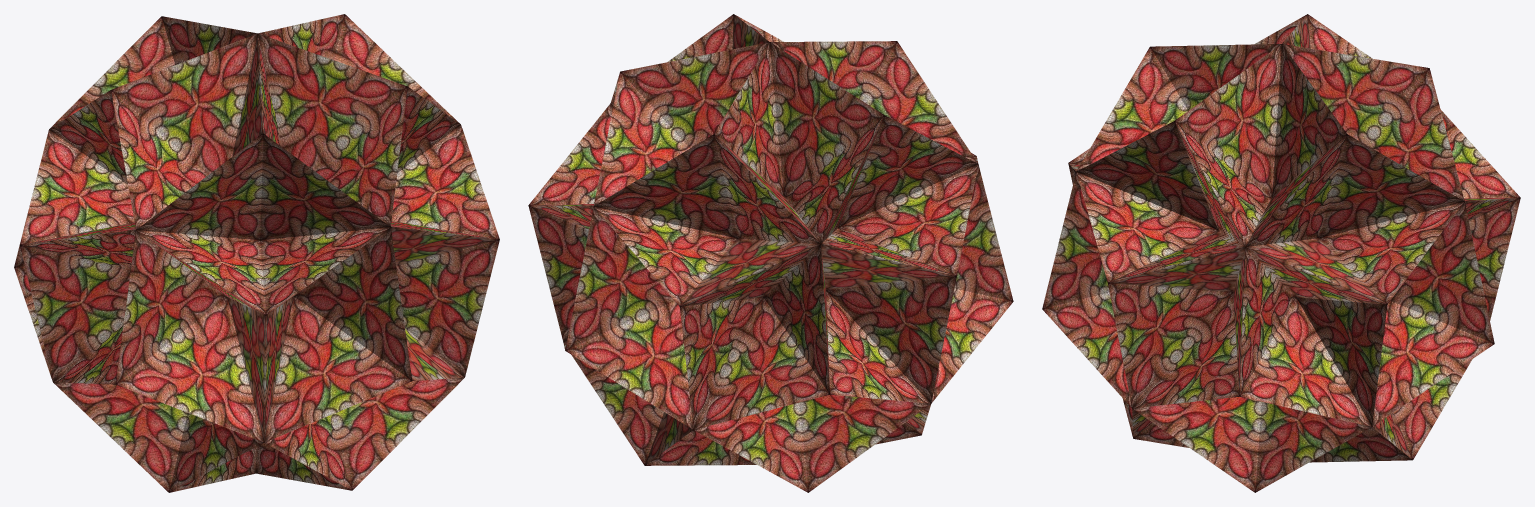
Rendered from Mobius120b_1.obj.
The picture shows the model from 3 angles, left to right: view 1: azimuth 30°, elevation 25°; view 2: azimuth 150°, elevation 25°; view 3: azimuth 270°, elevation 25°; orthographic projection. The views are drawn at different scales.
Bounding box in the file's own units: 3.09 × 3.02 × 3.11.
Materials: 1 (1 with a texture image).
